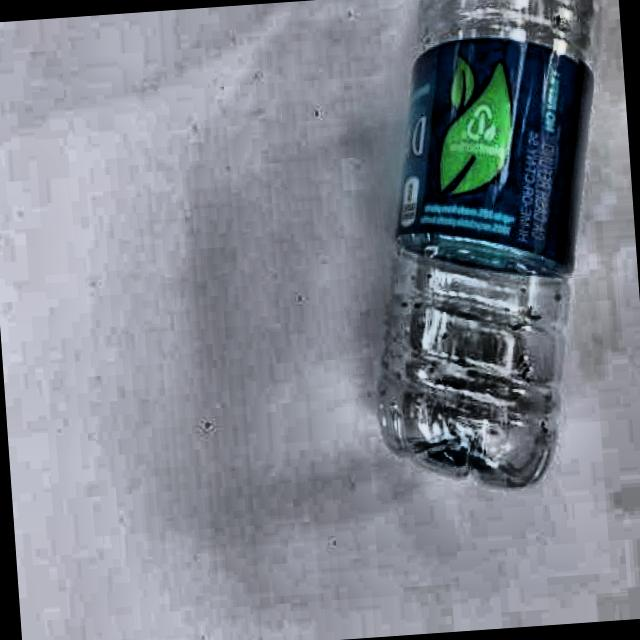plastic bottle: (381, 0, 594, 488)
